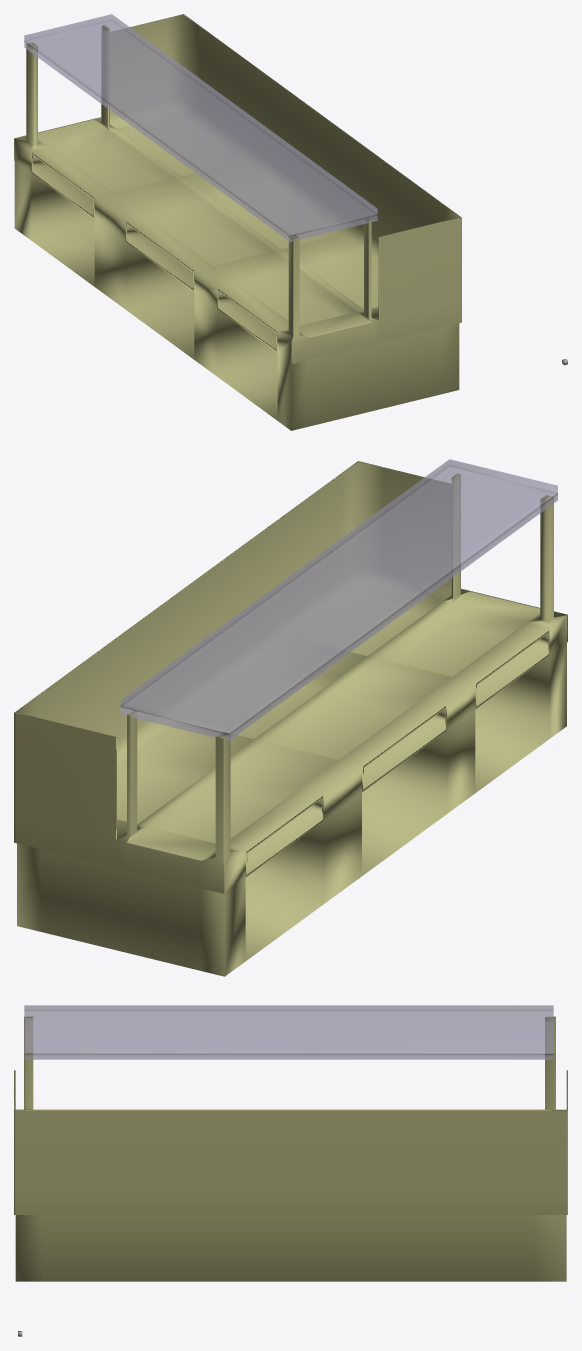
Rendered from Glass Cabinet.fbx.
3 renders of one model, top to bottom at view 1: azimuth 30°, elevation 25°; view 2: azimuth 150°, elevation 25°; view 3: azimuth 270°, elevation 25°, orthographic. The views are drawn at different scales.
Visible parts, largest first — view 1: pCube1, pCube3; view 2: pCube1, pCube3; view 3: pCube1, pCube3.
Boxes of the visible parts, box(x1,y1,x2,y2) form: pCube1: box(14, 14, 461, 430); pCube3: box(24, 14, 377, 241); pCube1: box(14, 461, 567, 976); pCube3: box(120, 459, 557, 740); pCube1: box(14, 1016, 567, 1281); pCube3: box(24, 1005, 553, 1059).
Bounding box in the file's own units: 180 × 123 × 312.
